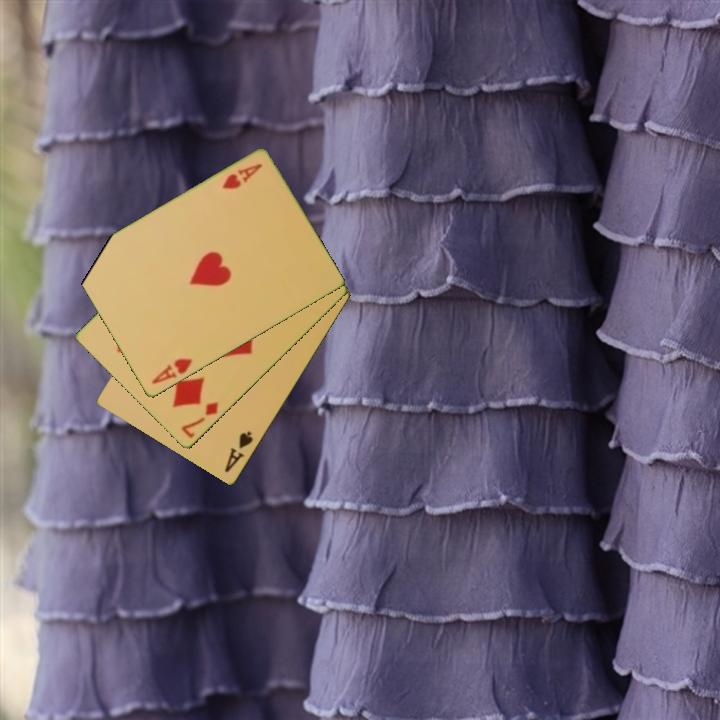7d: (178, 398, 221, 441)
Ah: (218, 160, 265, 193), (148, 355, 196, 387)
As: (221, 428, 256, 476)
